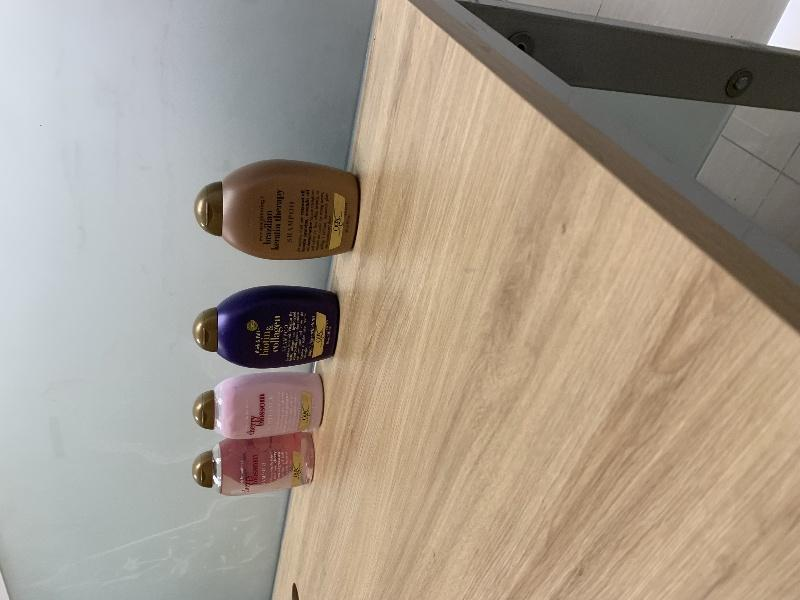BiotinCollagen_Shampoo: (193, 285, 340, 369)
BrazilianKeratinTherapy_Shampoo: (194, 159, 360, 261)
CherryBlossom_Conditioner: (192, 371, 324, 439)
CherryBlossom_Shampoo: (192, 440, 315, 496)
